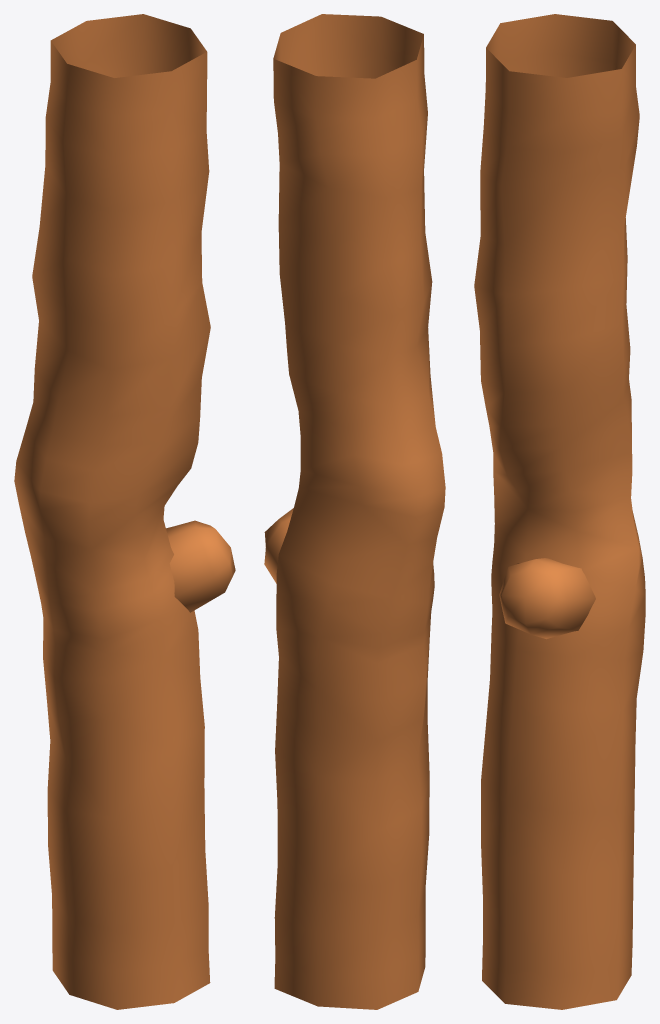
The model's file is tree_trunk.gltf.
3 views of the same model, side by side, from view 1: azimuth 30°, elevation 25°; view 2: azimuth 150°, elevation 25°; view 3: azimuth 270°, elevation 25° (orthographic).
Visible parts, largest first — view 1: Plane.008; view 2: Plane.008; view 3: Plane.008.
Part boxes in pixels (bbox=[...]): Plane.008: bbox=[14, 14, 235, 1009]; Plane.008: bbox=[264, 14, 445, 1009]; Plane.008: bbox=[474, 14, 645, 1009].
Size of the model in its own units: 4.89 by 23.87 by 3.98.
